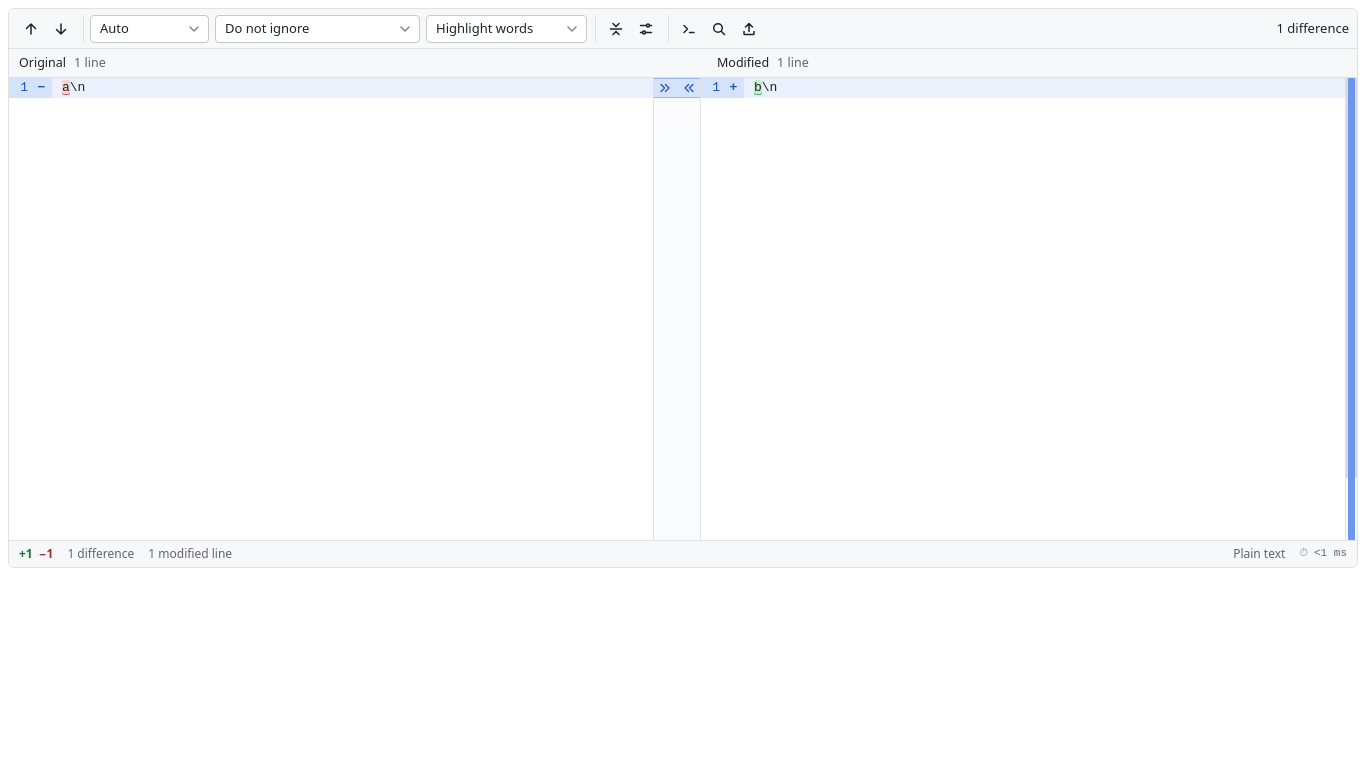
it: <DiffViewer> search › reports invalid regular expressions
Click the button named "Search" at (719, 28), box top-left (705, 14), bottom-right (733, 42)
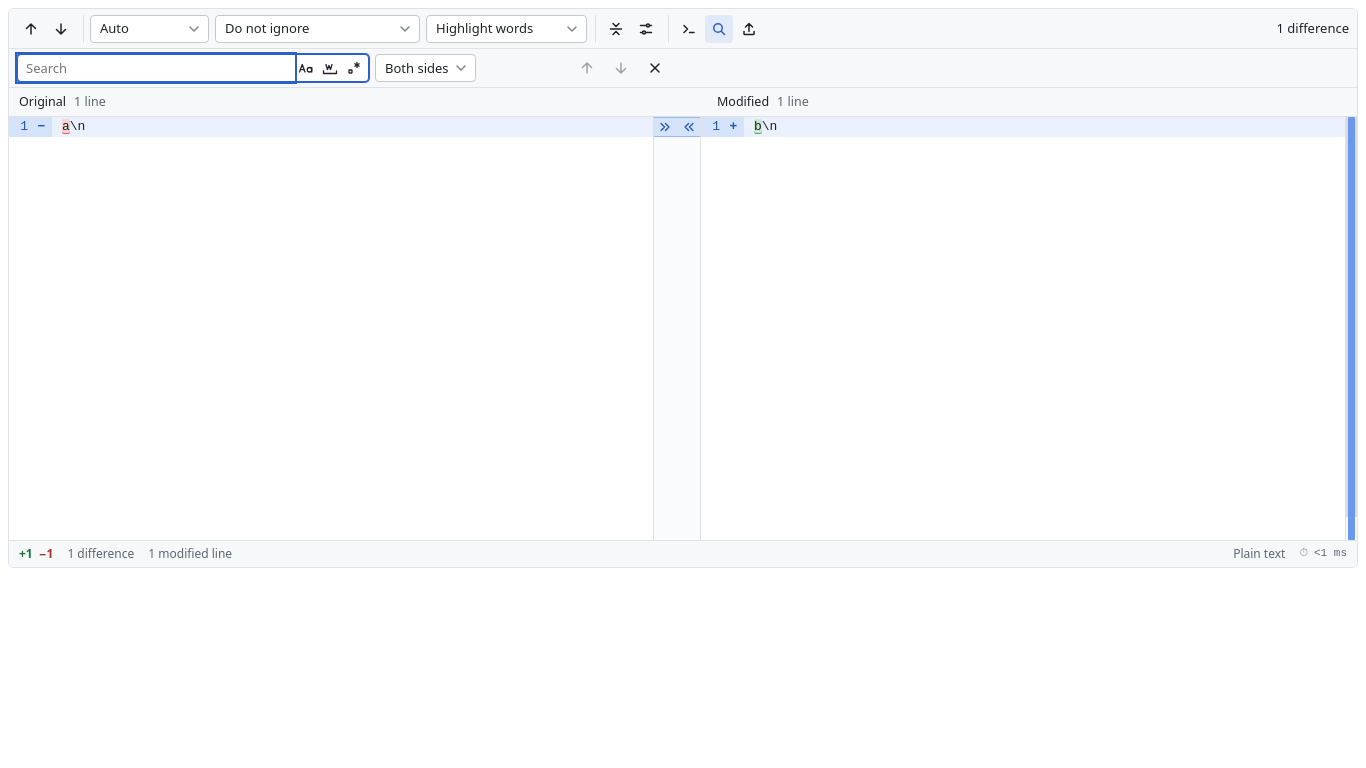
Click the button named "Use regular expression" at (354, 68), box top-left (342, 57), bottom-right (366, 79)
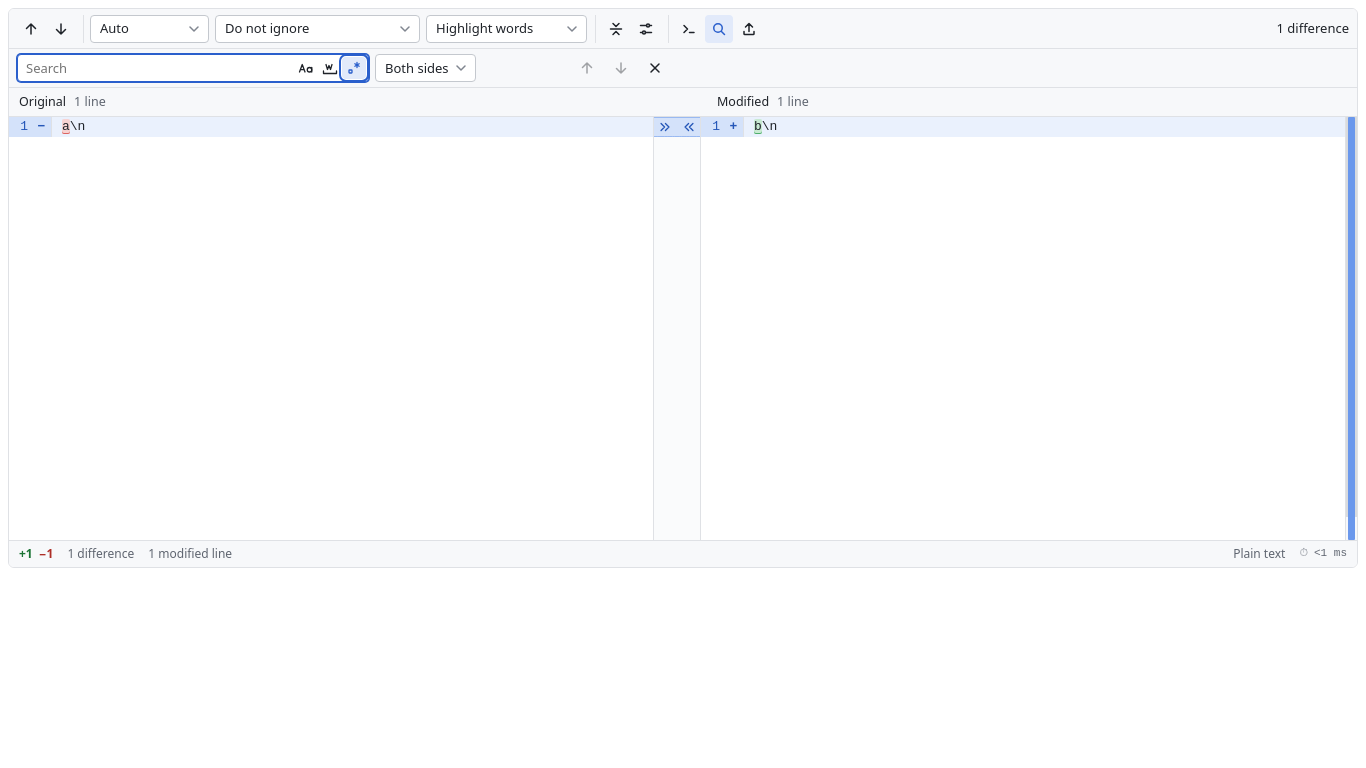
Type "(" into the search field at (156, 68), box top-left (18, 55), bottom-right (294, 81)
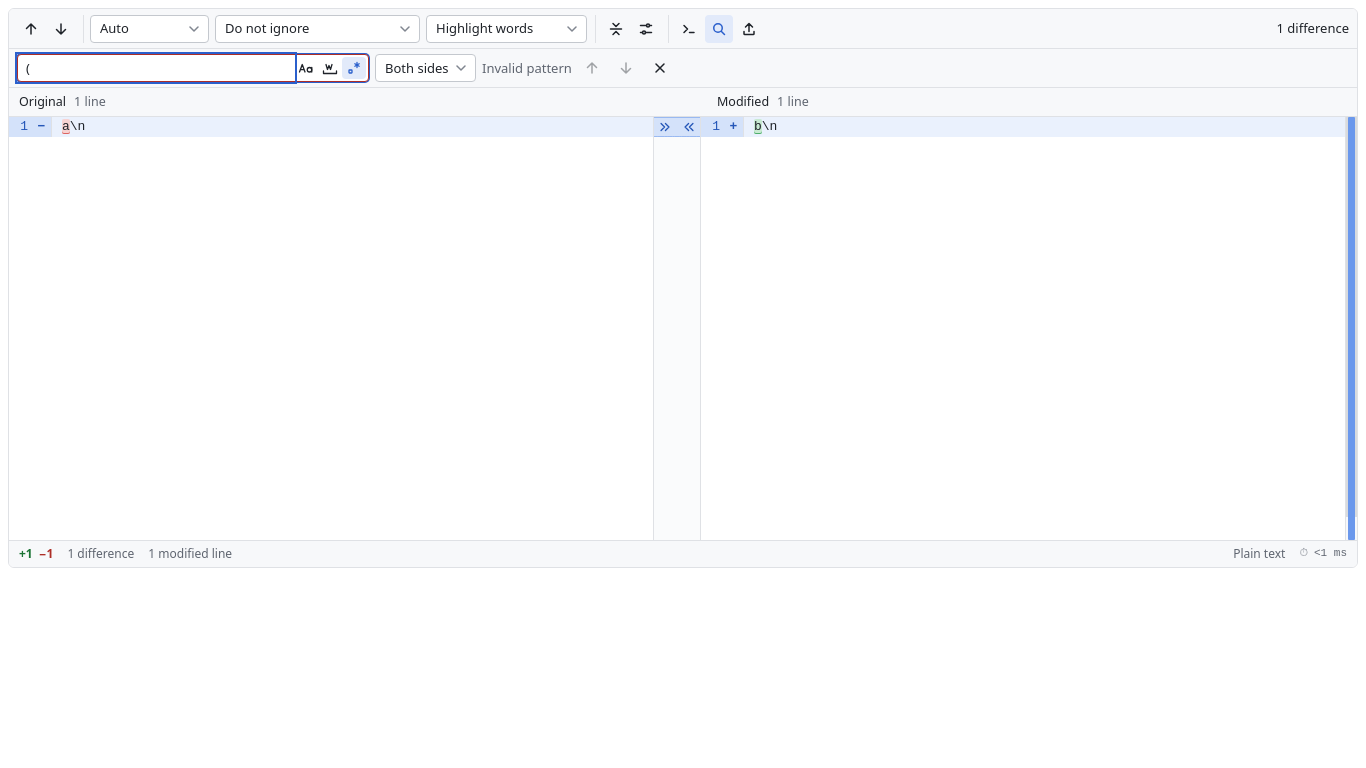
expect the text with class "m2d-search-count" reads "Invalid pattern": met, box top-left (482, 59), bottom-right (572, 77)
